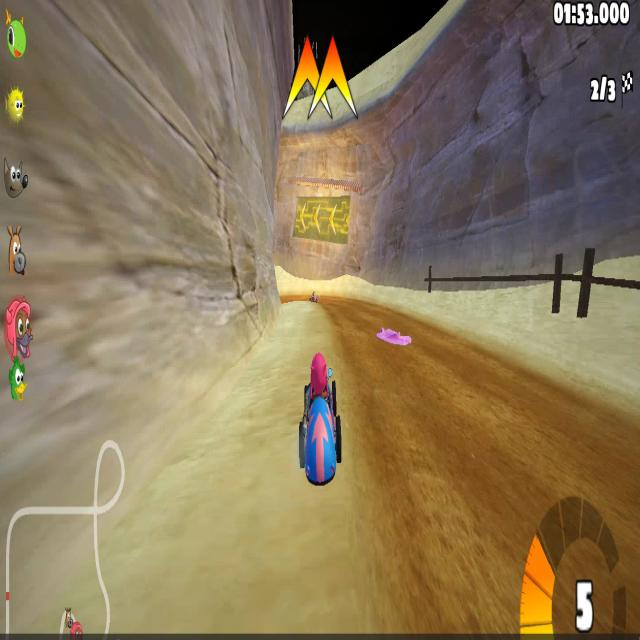track: (347, 378, 594, 506), (377, 521, 520, 633), (353, 351, 512, 371), (323, 298, 393, 318), (343, 324, 376, 349), (415, 322, 449, 338)
